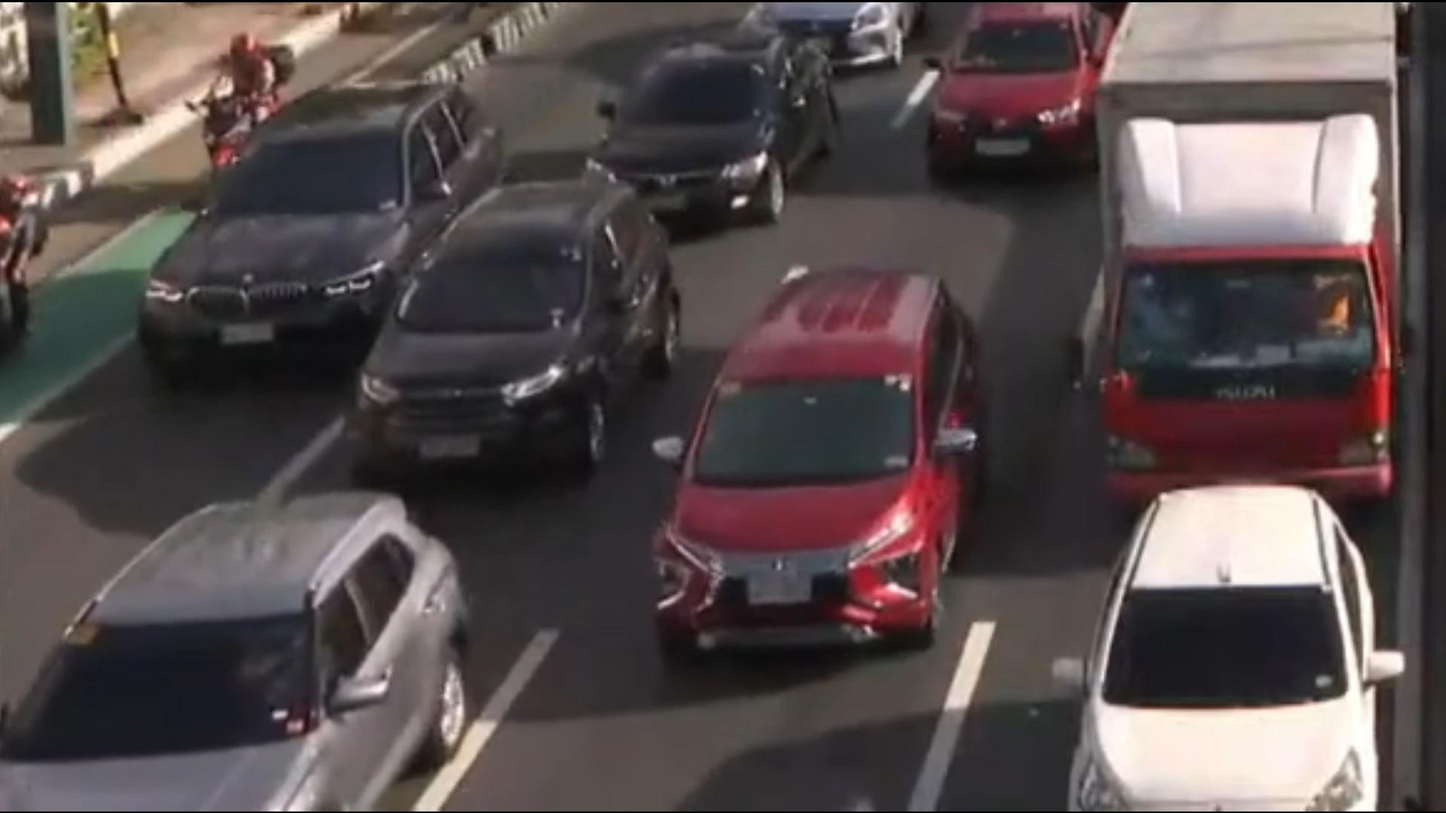Motorcycle: (185, 30, 290, 173)
SUV: (0, 489, 463, 813), (659, 269, 981, 634), (128, 85, 510, 376), (354, 177, 668, 469)
Sedan: (1081, 484, 1384, 813), (582, 32, 828, 233), (926, 2, 1100, 179)
Truck: (1079, 0, 1395, 519)
